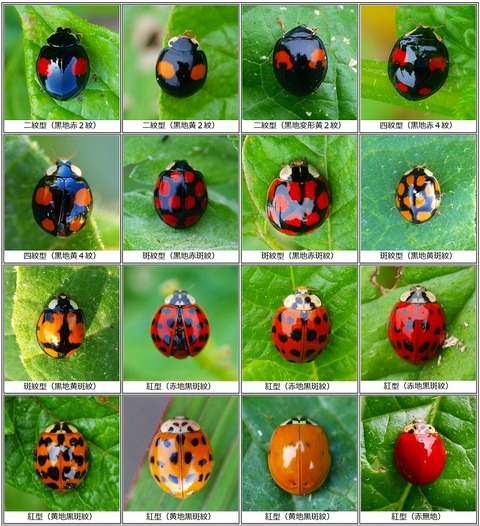none: (34, 294, 86, 360)
rash: (266, 157, 333, 235), (151, 160, 206, 230), (394, 165, 442, 228)
red: (147, 412, 213, 501), (267, 414, 332, 496), (386, 286, 447, 367), (149, 286, 209, 360), (272, 287, 331, 362), (33, 418, 90, 492), (389, 419, 448, 487)
two_spots: (32, 23, 94, 102), (271, 25, 334, 99), (155, 32, 207, 100)
two_spots_mutant: (30, 160, 92, 238), (387, 26, 449, 100)
